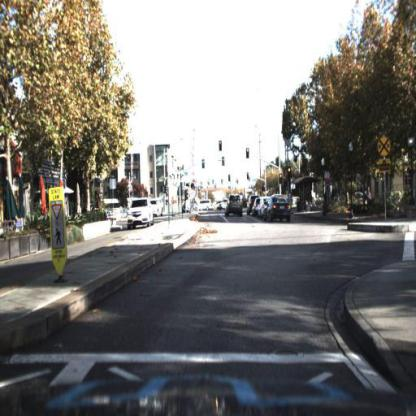car: (125, 197, 154, 228), (268, 192, 292, 222), (224, 193, 245, 219), (151, 196, 169, 221), (193, 197, 214, 213), (154, 194, 166, 221)
pedestrian: (365, 179, 374, 215), (366, 182, 375, 215)
trafficLight-Red: (245, 145, 252, 163), (217, 138, 225, 152), (283, 164, 291, 178), (274, 171, 280, 189), (263, 183, 268, 195)
